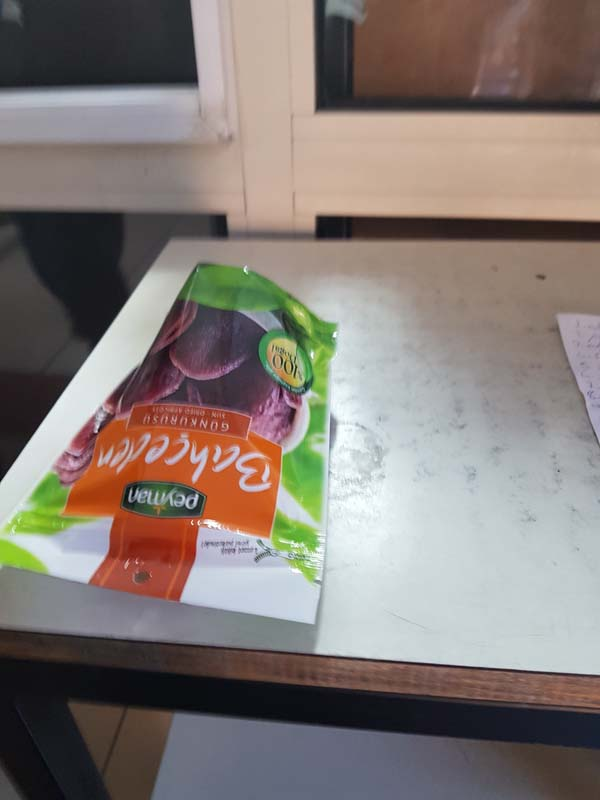bahcedengunkurusu: (4, 251, 328, 631)
